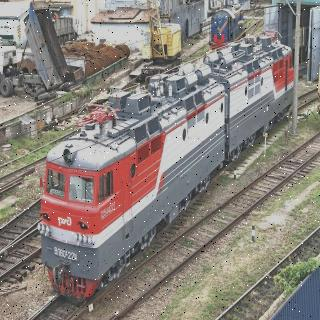poezd: (46, 35, 294, 299), (212, 12, 237, 46)
